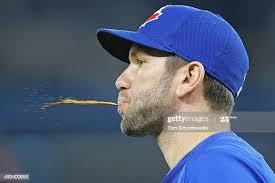spitting: (26, 1, 266, 183)
